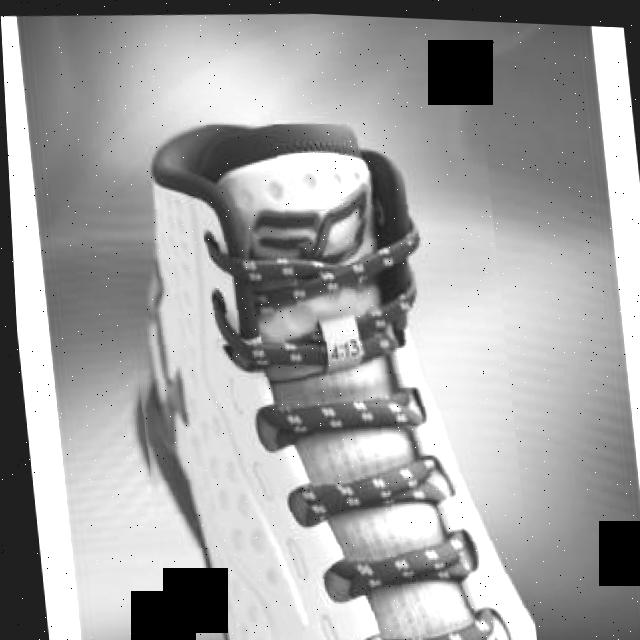shoe: (102, 104, 531, 640)
